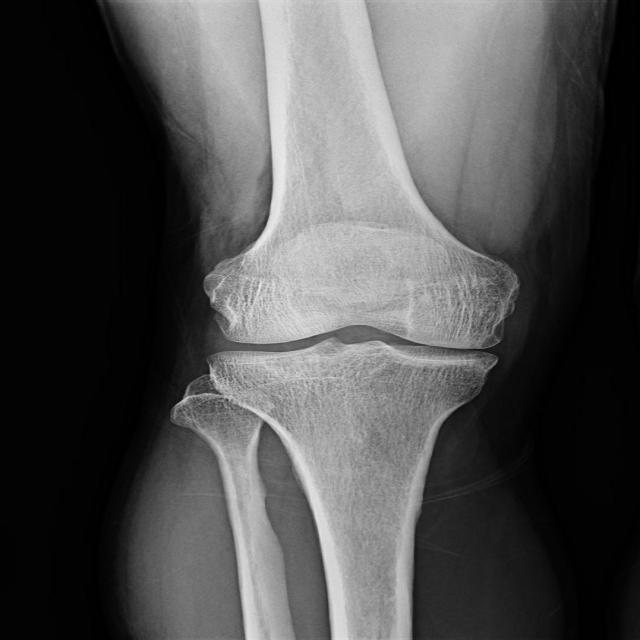osteo: (200, 249, 517, 422)
